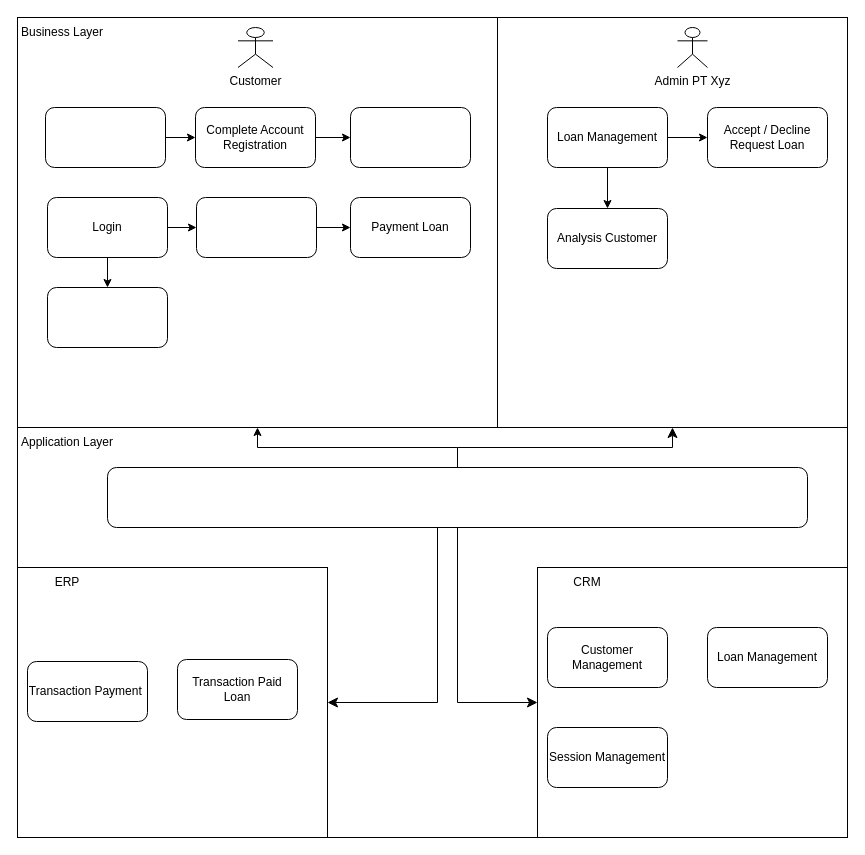
Image size: 865x855. Some labels were removed from this diagram. The shapes that lost their labels are listed below. From the top down, each one's box as (x1, y1, x2, y2) in pixels, then its label:
(44, 106, 166, 168): Register
(350, 106, 470, 168): Verify Account Registration
(196, 196, 316, 258): View Loan / Estatement
(46, 286, 168, 348): Request Loan
(106, 466, 808, 528): API Gateway
